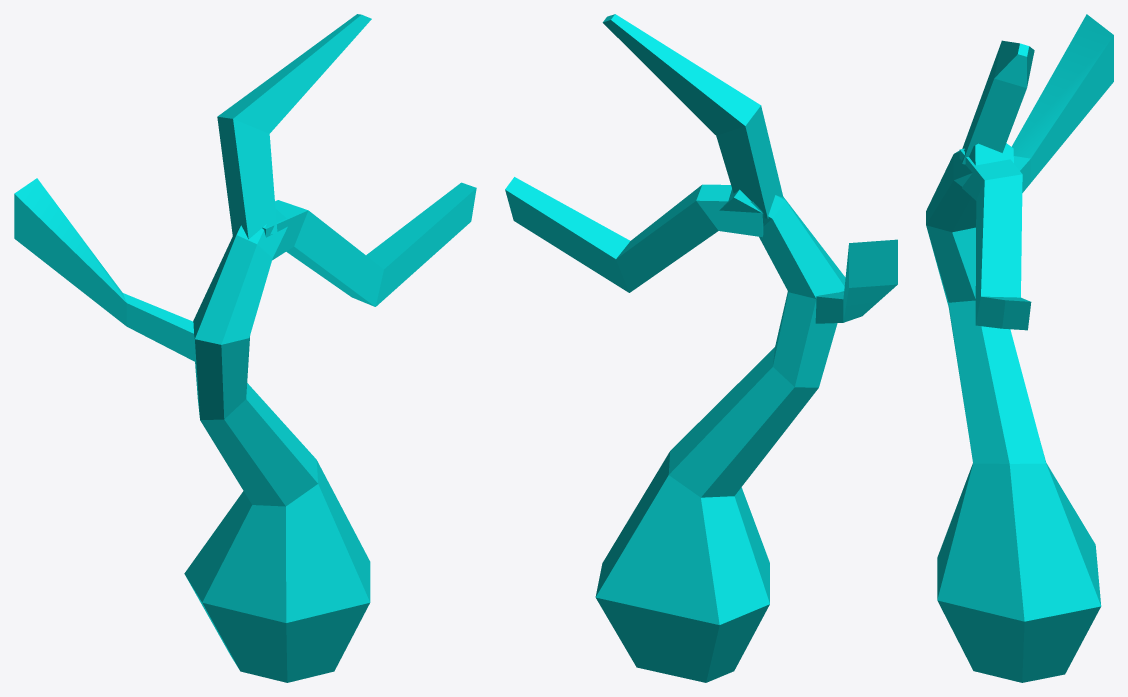
The model's file is SM_Env_Tree_Pine_02_Collision.fbx.
3 renders of one model, left to right at view 1: azimuth 30°, elevation 25°; view 2: azimuth 150°, elevation 25°; view 3: azimuth 270°, elevation 25°, orthographic. The views are drawn at different scales.
Parts seen in each view (by area): view 1: SM_Env_Tree_Pine_02_Collision; view 2: SM_Env_Tree_Pine_02_Collision; view 3: SM_Env_Tree_Pine_02_Collision.
Boxes of the visible parts, left/top/right/bottom form: SM_Env_Tree_Pine_02_Collision: left=14, top=14, right=476, bottom=682; SM_Env_Tree_Pine_02_Collision: left=505, top=14, right=897, bottom=682; SM_Env_Tree_Pine_02_Collision: left=926, top=14, right=1113, bottom=682.
Size of the model in its own units: 255 by 361 by 94.26.
